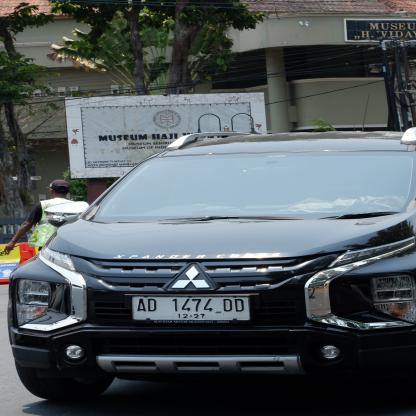Plat-Nomor: (126, 292, 257, 326)
